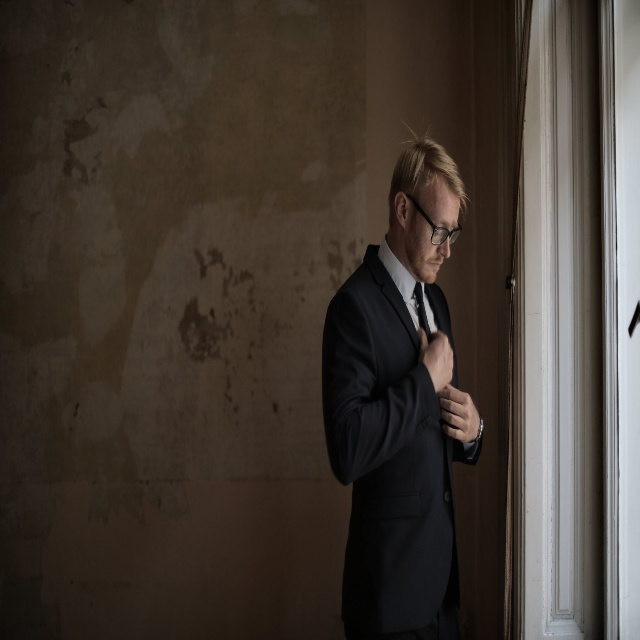Gafas: (405, 192, 461, 246)
Sin_guantes: (417, 326, 454, 393), (437, 383, 478, 443)
